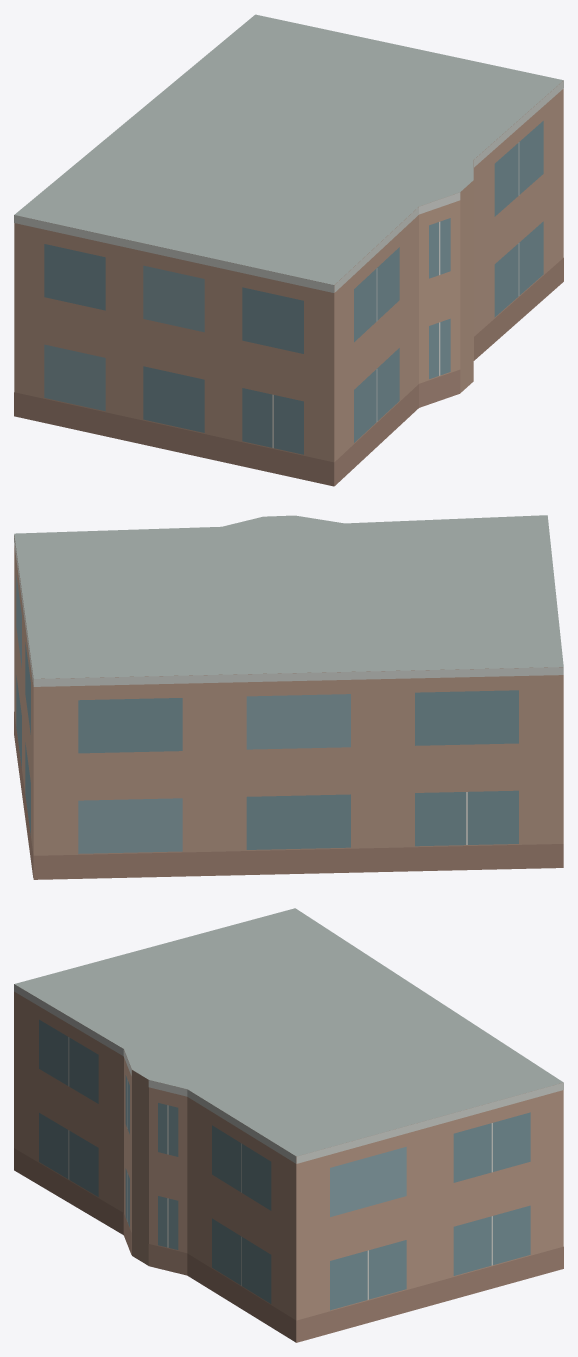
Rendered from survey-upis-32624860.glb.
3 views of the same model, one above another, from view 1: azimuth 30°, elevation 25°; view 2: azimuth 150°, elevation 25°; view 3: azimuth 270°, elevation 25° (orthographic). The views are drawn at different scales.
Parts seen in each view (by area): view 1: survey-upis-32624860.tmp; view 2: survey-upis-32624860.tmp; view 3: survey-upis-32624860.tmp.
Part boxes in pixels (<box>): survey-upis-32624860.tmp: <box>14,14,563,486</box>; survey-upis-32624860.tmp: <box>14,515,563,879</box>; survey-upis-32624860.tmp: <box>14,908,563,1342</box>.
Bounding box in the file's own units: 17.46 × 6.1 × 16.33.
